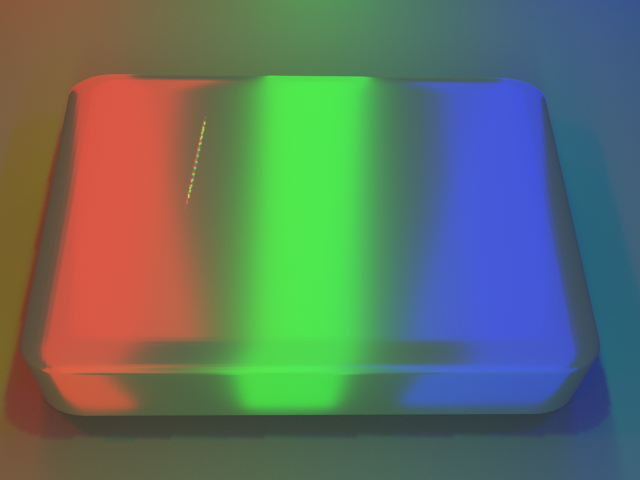scratch: (6, 71, 401, 281)
